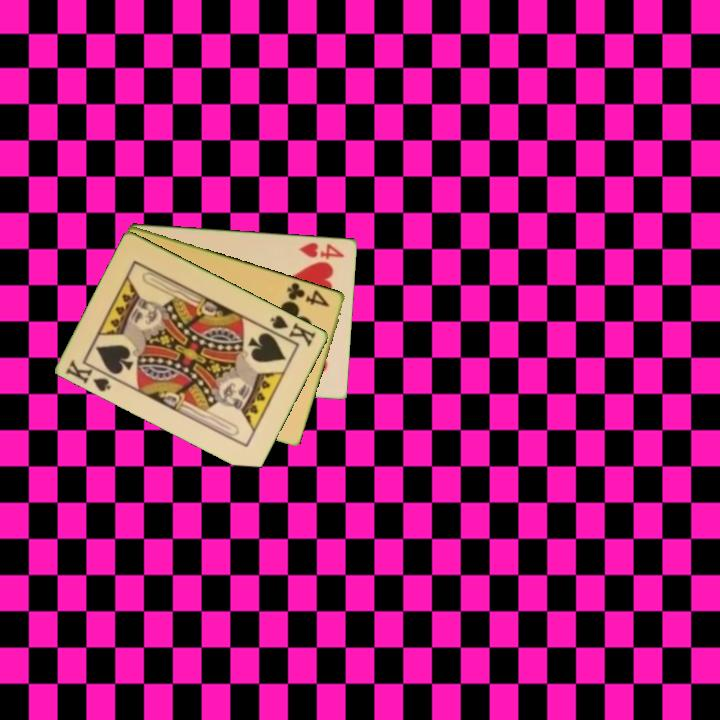4c: (284, 279, 333, 309)
4h: (296, 238, 347, 262)
Ks: (62, 356, 119, 395), (264, 311, 319, 349)
